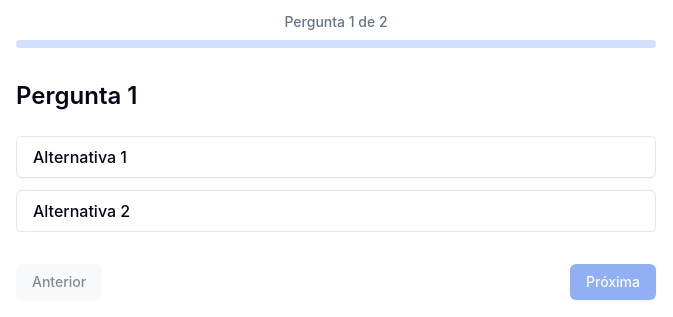
Test: QuizFlow › should show next question after transition completes
Click the button "Alternativa 1": click(80, 157) [16,136,656,178]
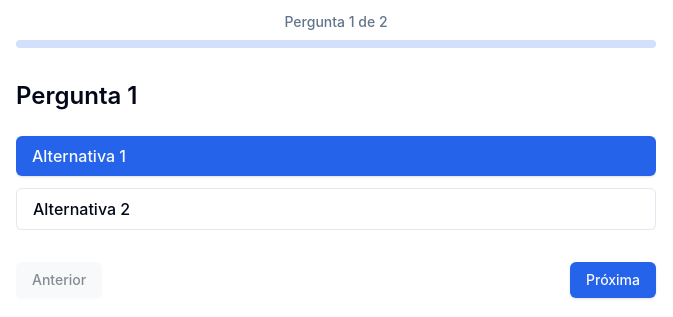
Click the button "Próxima": click(613, 280) [570,262,656,298]
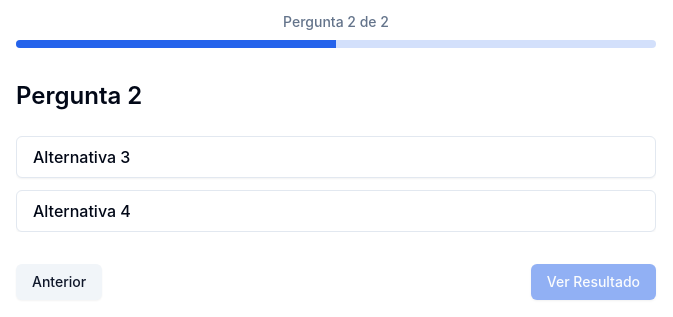
Check: the heading "Pergunta 2" is shown, box [16,81,142,110]
